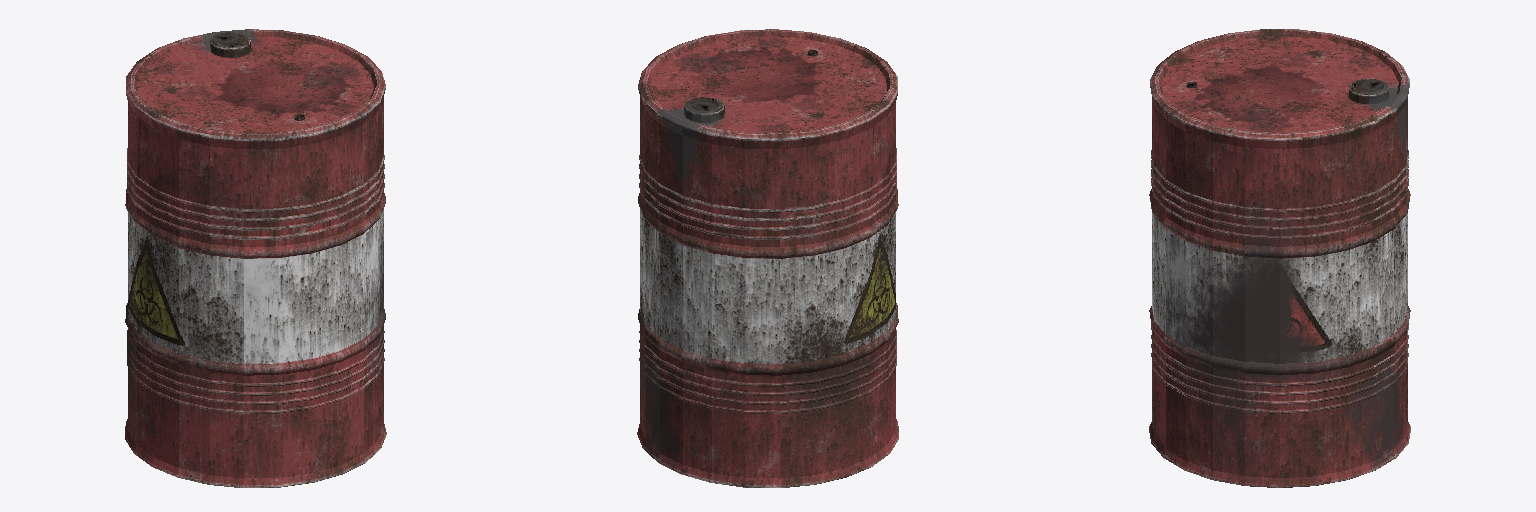
3 views of the same model, side by side, from view 1: azimuth 30°, elevation 25°; view 2: azimuth 150°, elevation 25°; view 3: azimuth 270°, elevation 25° (orthographic).
Parts seen in each view (by area): view 1: pCylinder5; view 2: pCylinder5; view 3: pCylinder5.
Part boxes in pixels (x1,y1,x2,y2): pCylinder5: (125, 29, 386, 487); pCylinder5: (637, 29, 898, 487); pCylinder5: (1149, 29, 1410, 487).
Bounding box in the file's own units: 192 × 290 × 192.
Materials: 1 (1 with a texture image).